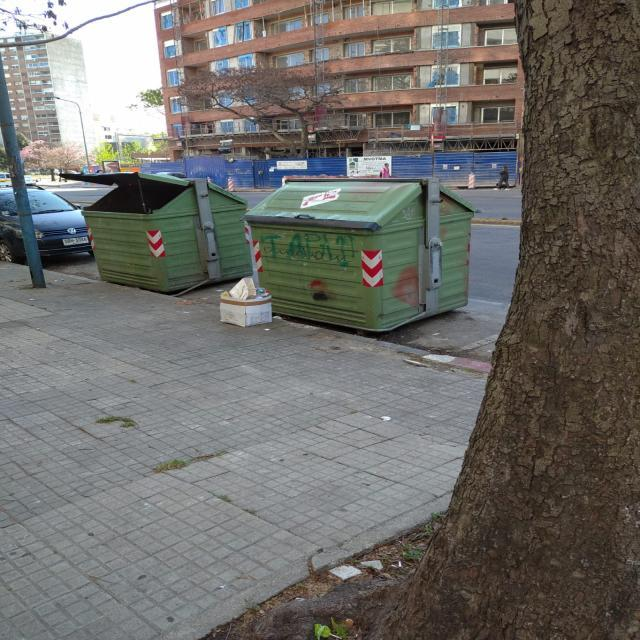garbage: (206, 273, 288, 335)
